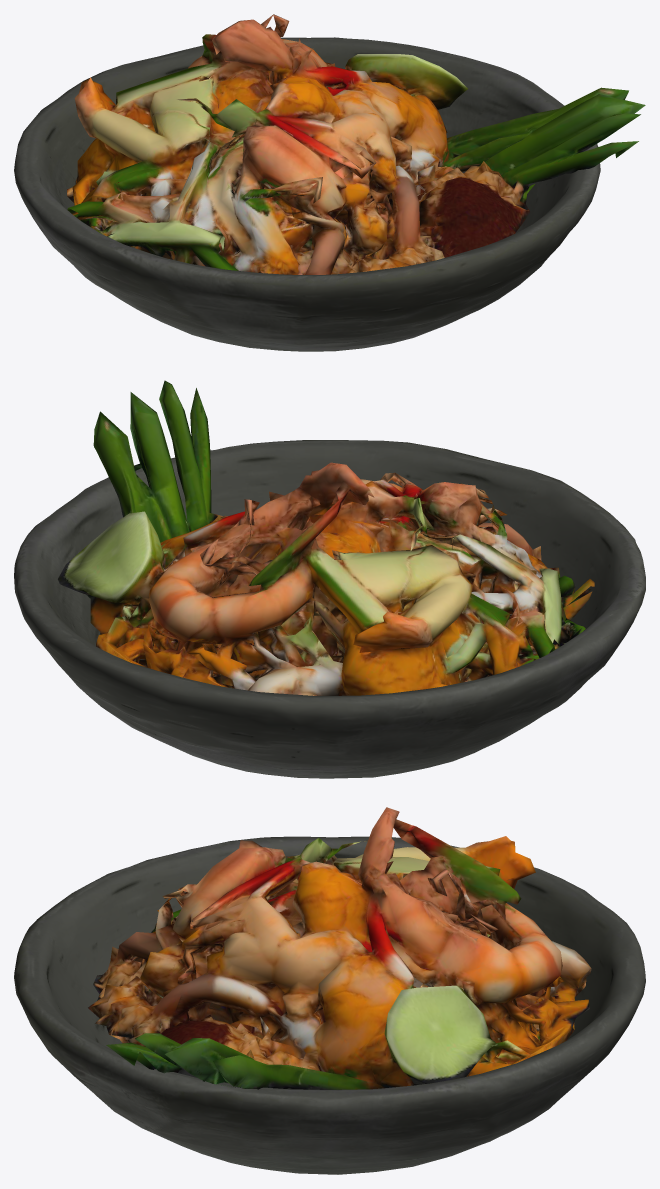
The model's file is MDL_Phat_Thai.glb.
3 renders of one model, top to bottom at view 1: azimuth 30°, elevation 25°; view 2: azimuth 150°, elevation 25°; view 3: azimuth 270°, elevation 25°, orthographic. The views are drawn at different scales.
Parts seen in each view (by area): view 1: Mesh1.0; view 2: Mesh1.0; view 3: Mesh1.0.
Part boxes in pixels (bbox=[...]): Mesh1.0: bbox=[14, 14, 645, 351]; Mesh1.0: bbox=[14, 380, 645, 778]; Mesh1.0: bbox=[14, 807, 645, 1174].
Size of the model in its own units: 1.83 by 0.8562 by 1.78.
2 materials, 2 textured.
